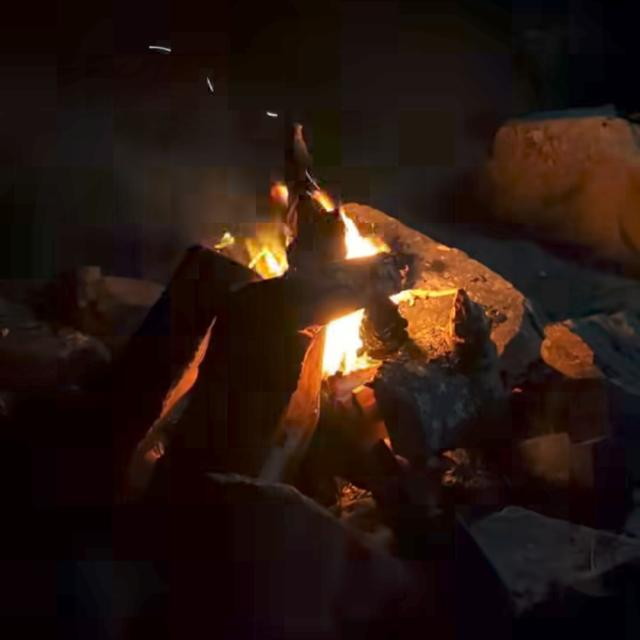fire: (216, 225, 289, 279), (323, 308, 380, 376), (340, 209, 389, 259)
